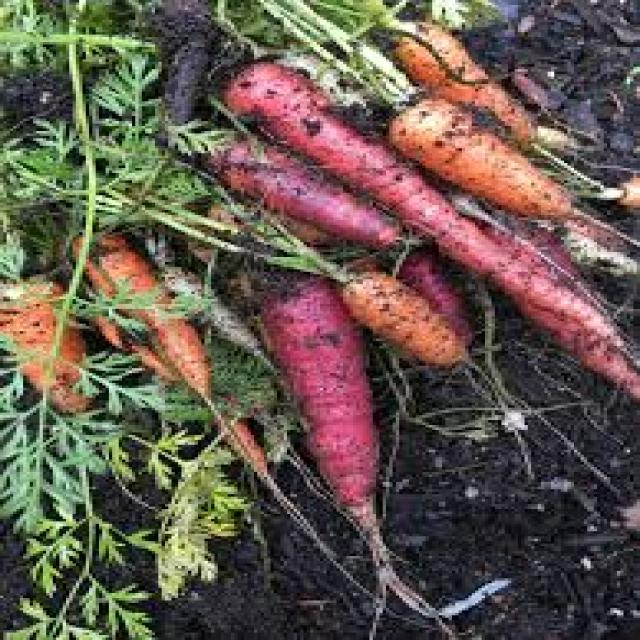food_waste: (77, 95, 601, 399)
